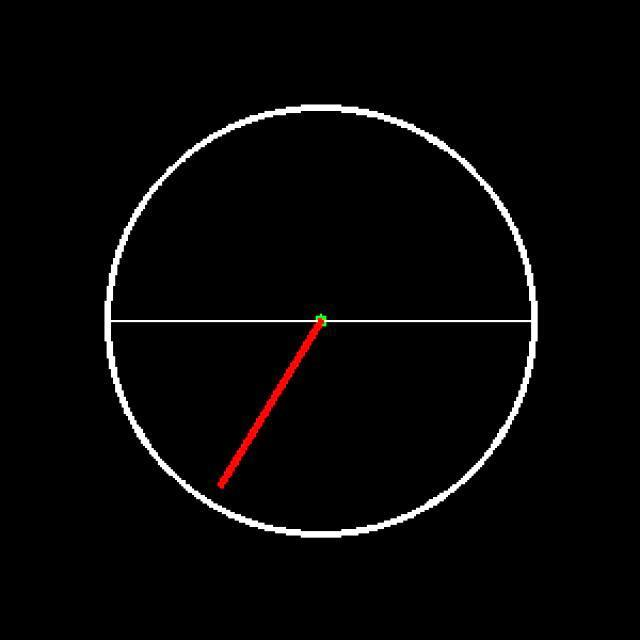Needle_Tip: (196, 468, 252, 511)
Needle_base: (301, 278, 344, 368)
